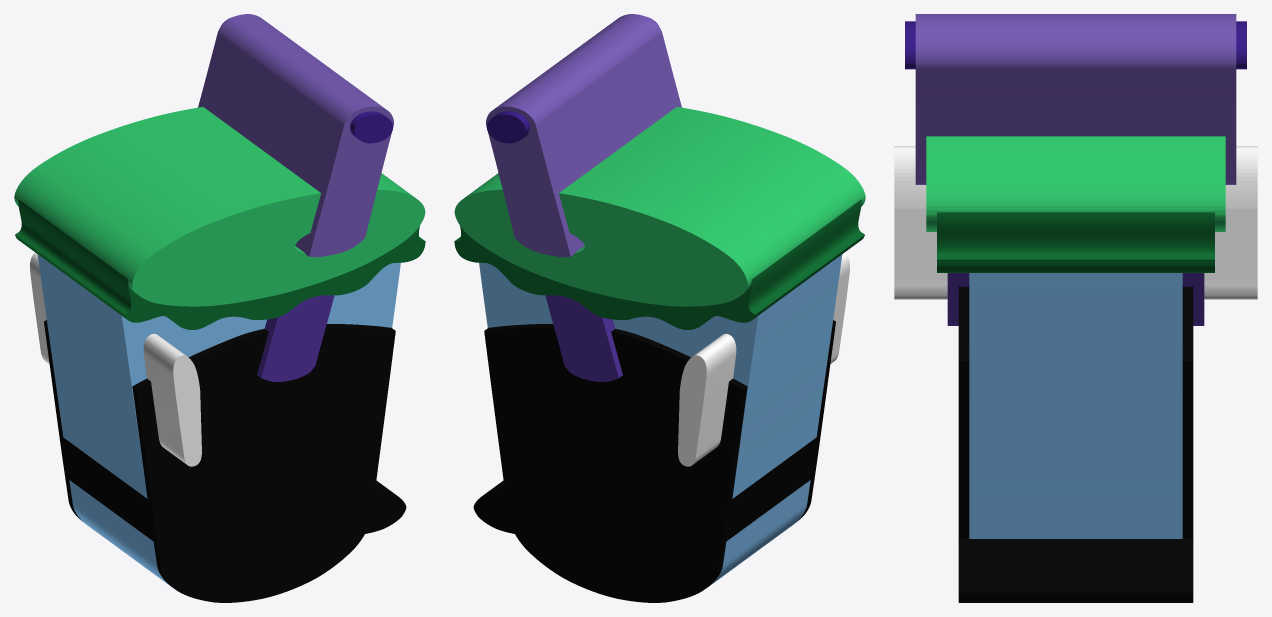
3 renders of one model, left to right at view 1: azimuth 30°, elevation 25°; view 2: azimuth 150°, elevation 25°; view 3: azimuth 270°, elevation 25°, orthographic. The views are drawn at different scales.
Parts seen in each view (by area): view 1: U+1F9CB_layer01_obj02, U+1F9CB_layer04_obj00, U+1F9CB_layer00_obj00, U+1F9CB_layer05_obj00, U+1F9CB_layer03_obj00, U+1F9CB_layer07_obj00, U+1F9CB_layer01_obj16, U+1F9CB_layer02_obj00, U+1F9CB_layer06_obj00, U+1F9CB_layer01_obj00, U+1F9CB_layer01_obj19, U+1F9CB_layer01_obj22 (+7 smaller); view 2: U+1F9CB_layer01_obj02, U+1F9CB_layer04_obj00, U+1F9CB_layer00_obj00, U+1F9CB_layer05_obj00, U+1F9CB_layer03_obj00, U+1F9CB_layer07_obj00, U+1F9CB_layer01_obj16, U+1F9CB_layer02_obj00, U+1F9CB_layer06_obj00, U+1F9CB_layer01_obj00, U+1F9CB_layer01_obj05, U+1F9CB_layer01_obj19 (+5 smaller); view 3: U+1F9CB_layer00_obj00, U+1F9CB_layer05_obj00, U+1F9CB_layer04_obj00, U+1F9CB_layer03_obj00, U+1F9CB_layer01_obj16, U+1F9CB_layer07_obj00, U+1F9CB_layer01_obj02, U+1F9CB_layer02_obj00, U+1F9CB_layer06_obj00.
Part boxes in pixels (box(x1,y1,x2,y2)): U+1F9CB_layer01_obj02: box(44, 320, 395, 602); U+1F9CB_layer04_obj00: box(14, 107, 425, 306); U+1F9CB_layer00_obj00: box(37, 254, 400, 587); U+1F9CB_layer05_obj00: box(198, 14, 393, 257); U+1F9CB_layer03_obj00: box(15, 199, 425, 329); U+1F9CB_layer07_obj00: box(30, 252, 201, 466); U+1F9CB_layer01_obj16: box(163, 464, 406, 535); U+1F9CB_layer02_obj00: box(257, 295, 334, 381); U+1F9CB_layer06_obj00: box(221, 17, 392, 143); U+1F9CB_layer01_obj00: box(203, 483, 239, 521); U+1F9CB_layer01_obj19: box(200, 552, 236, 589); U+1F9CB_layer01_obj22: box(255, 550, 291, 588); U+1F9CB_layer01_obj02: box(484, 320, 835, 602); U+1F9CB_layer04_obj00: box(454, 107, 865, 306); U+1F9CB_layer00_obj00: box(479, 254, 842, 587); U+1F9CB_layer05_obj00: box(486, 14, 681, 257); U+1F9CB_layer03_obj00: box(454, 199, 864, 329); U+1F9CB_layer07_obj00: box(678, 252, 849, 466); U+1F9CB_layer01_obj16: box(473, 464, 715, 534); U+1F9CB_layer02_obj00: box(545, 295, 622, 381); U+1F9CB_layer06_obj00: box(487, 17, 658, 143); U+1F9CB_layer01_obj00: box(640, 483, 676, 519); U+1F9CB_layer01_obj05: box(559, 495, 595, 533); U+1F9CB_layer01_obj19: box(643, 552, 679, 589); U+1F9CB_layer00_obj00: box(969, 273, 1182, 538); U+1F9CB_layer05_obj00: box(915, 14, 1236, 184); U+1F9CB_layer04_obj00: box(926, 136, 1225, 231); U+1F9CB_layer03_obj00: box(937, 212, 1214, 272); U+1F9CB_layer01_obj16: box(958, 538, 1193, 602); U+1F9CB_layer07_obj00: box(894, 146, 1257, 299); U+1F9CB_layer01_obj02: box(958, 286, 1193, 538); U+1F9CB_layer02_obj00: box(947, 273, 1204, 325); U+1F9CB_layer06_obj00: box(905, 21, 1246, 69).
Size of the model in its own units: 0.2063 by 0.3158 by 0.17.
